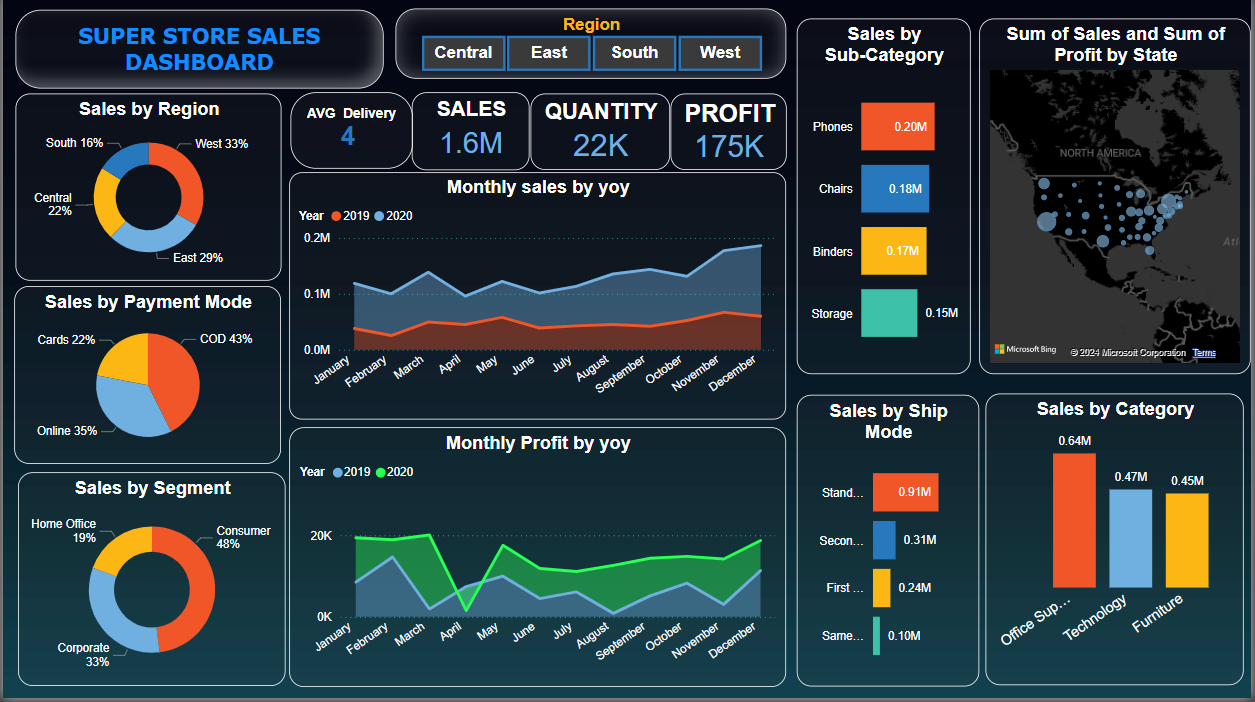

The dashboard page shown, as its layout file describes it:
{"tool":"powerbi","page":{"name":"Page 1","canvas":[1280,720],"ordinal":0},"visuals":[{"type":"columnChart","title":" Sales by Category","fields":{"Category":["SuperStore_Sales_Dataset.Category"],"Y":["Sum(SuperStore_Sales_Dataset.Sales)"]},"box":[1008.1,408.1,265.1,298.8],"z":0},{"type":"clusteredBarChart","title":" Sales by  Sub-Category","fields":{"Y":["Sum(SuperStore_Sales_Dataset.Sales)"],"Category":["SuperStore_Sales_Dataset.Sub-Category"]},"box":[813.7,23.3,178.4,365],"z":1000},{"type":"clusteredBarChart","title":" Sales by Ship Mode","fields":{"Y":["Sum(SuperStore_Sales_Dataset.Sales)"],"Category":["SuperStore_Sales_Dataset.Ship Mode"]},"box":[814,409.3,187.2,298.8],"z":2000},{"type":"stackedAreaChart","title":" Monthly Profit by yoy","fields":{"Category":["SuperStore_Sales_Dataset.Order Date.Variation.Date Hierarchy.Month","SuperStore_Sales_Dataset.Order Date.Variation.Date Hierarchy.Day"],"Series":["SuperStore_Sales_Dataset.Order Date.Variation.Date Hierarchy.Year"],"Y":["Sum(SuperStore_Sales_Dataset.Profit)"]},"box":[294.2,441.9,509.3,266.3],"z":3000},{"type":"stackedAreaChart","title":" Monthly sales by yoy","fields":{"Y":["Sum(SuperStore_Sales_Dataset.Sales)"],"Category":["SuperStore_Sales_Dataset.Order Date.Variation.Date Hierarchy.Month","SuperStore_Sales_Dataset.Order Date.Variation.Date Hierarchy.Day"],"Series":["SuperStore_Sales_Dataset.Order Date.Variation.Date Hierarchy.Year"]},"box":[294.2,180.2,509.3,253.5],"z":4000},{"type":"map","fields":{"Category":["SuperStore_Sales_Dataset.State"],"Size":["Sum(SuperStore_Sales_Dataset.Sales)"]},"box":[1001.7,23.3,278.6,365],"z":5000},{"type":"donutChart","title":"Sales by Segment","fields":{"Category":["SuperStore_Sales_Dataset.Segment"],"Y":["Sum(SuperStore_Sales_Dataset.Sales)"]},"box":[15.1,488.5,274.4,219.6],"z":6000},{"type":"pieChart","title":" Sales by Payment Mode","fields":{"Category":["SuperStore_Sales_Dataset.Payment Mode"],"Y":["Sum(SuperStore_Sales_Dataset.Sales)"]},"box":[12.1,298,273.9,182.2],"z":7000},{"type":"slicer","title":"Region","fields":{"Values":["SuperStore_Sales_Dataset.Region"]},"box":[403,13.3,400.5,72.4],"z":8000},{"type":"textbox","box":[12.3,13.7,377.4,81],"z":9000},{"type":"card","title":"SALES","fields":{"Values":["Sum(SuperStore_Sales_Dataset.Sales)"]},"box":[419.8,98.9,120.6,79.6],"z":10000},{"type":"card","title":"QUANTITY","fields":{"Values":["Sum(SuperStore_Sales_Dataset.Quantity)"]},"box":[540.5,100.1,143.6,78.4],"z":11000},{"type":"card","title":"PROFIT","fields":{"Values":["Sum(SuperStore_Sales_Dataset.Profit)"]},"box":[684.1,100.1,119.4,78.4],"z":12000},{"type":"card","title":"Ship Day","fields":{"Values":["Avg(SuperStore_Sales_Dataset.AvgDelivary)"]},"box":[294.4,100.1,125.5,78.4],"z":13000},{"type":"donutChart","title":" Sales by Region","fields":{"Category":["SuperStore_Sales_Dataset.Region"],"Y":["Sum(SuperStore_Sales_Dataset.Sales)"]},"box":[13.3,100.1,272.7,191.8],"z":14000}]}

Visuals, with their boxes in screenshot pixels (x1, y1, x2, y2), scaled from the page's 1280x720 canvas onto the 1255x702 screenshot:
" Sales by Category" columnChart: bbox=[988, 398, 1248, 689]
" Sales by  Sub-Category" clusteredBarChart: bbox=[798, 23, 973, 379]
" Sales by Ship Mode" clusteredBarChart: bbox=[798, 399, 982, 690]
" Monthly Profit by yoy" stackedAreaChart: bbox=[288, 431, 788, 690]
" Monthly sales by yoy" stackedAreaChart: bbox=[288, 176, 788, 423]
map - SuperStore_Sales_Dataset.State x Sum(SuperStore_Sales_Dataset.Sales): bbox=[982, 23, 1254, 379]
"Sales by Segment" donutChart: bbox=[15, 476, 284, 690]
" Sales by Payment Mode" pieChart: bbox=[12, 291, 280, 468]
"Region" slicer: bbox=[395, 13, 788, 84]
textbox: bbox=[12, 13, 382, 92]
"SALES" card: bbox=[412, 96, 530, 174]
"QUANTITY" card: bbox=[530, 98, 671, 174]
"PROFIT" card: bbox=[671, 98, 788, 174]
"Ship Day" card: bbox=[289, 98, 412, 174]
" Sales by Region" donutChart: bbox=[13, 98, 280, 285]
